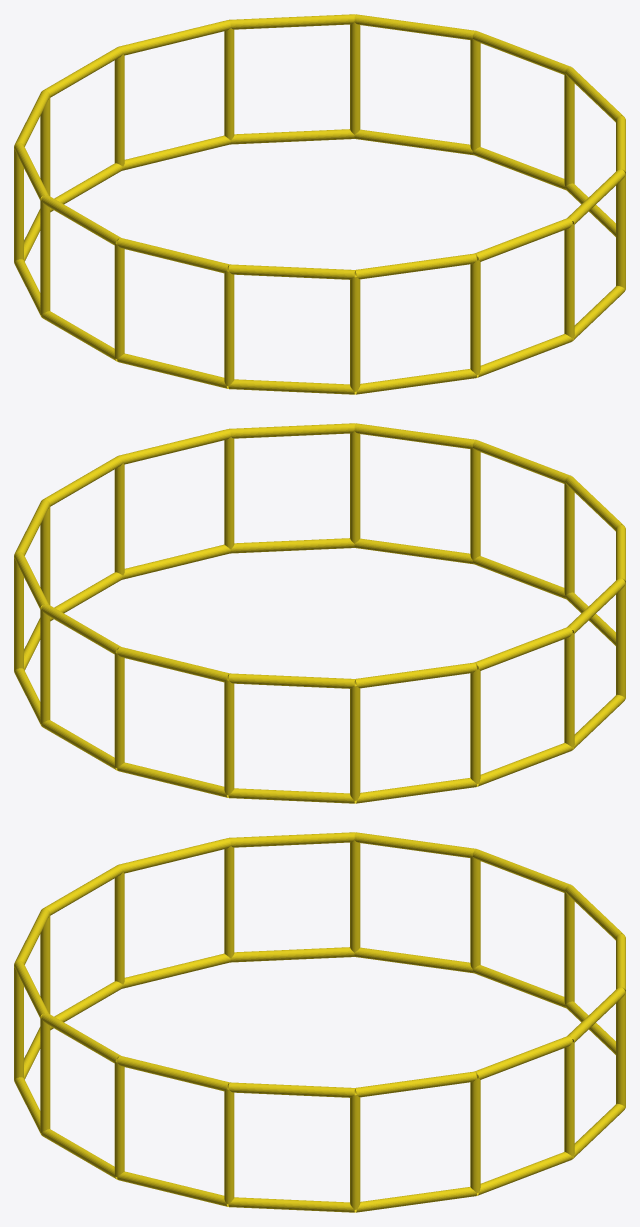
The model's file is trinexus3_1b.glb.
3 renders of one model, top to bottom at view 1: azimuth 30°, elevation 25°; view 2: azimuth 150°, elevation 25°; view 3: azimuth 270°, elevation 25°, orthographic.
Visible parts, largest first — view 1: Mesh_43; view 2: Mesh_43; view 3: Mesh_43.
Boxes of the visible parts, x1,y1,x2,y2 form: Mesh_43: (14,14,625,394); Mesh_43: (14,423,625,803); Mesh_43: (14,832,625,1212).
Bounding box in the file's own units: 7.3 × 1.62 × 7.26.
